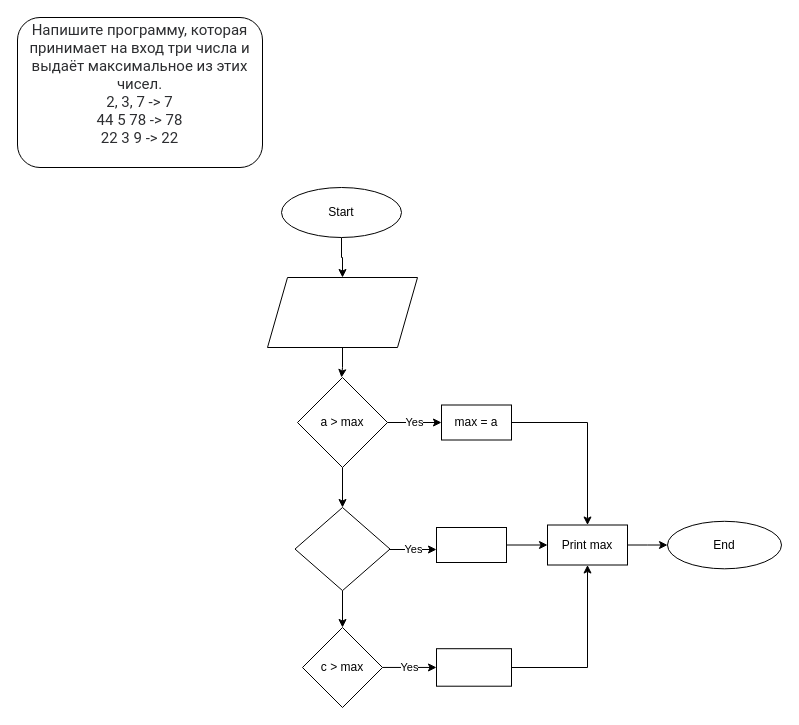
This 799x725 diagram has some shape labels left out. The shapes that lost their labels are listed below. From the top down, each one's box as (x1, y1, x2, y2) in pixels, then its label:
(266, 276, 418, 348): a b c max = a
(294, 506, 390, 591): b > max
(436, 526, 506, 562): max = b
(436, 648, 512, 686): max = c
